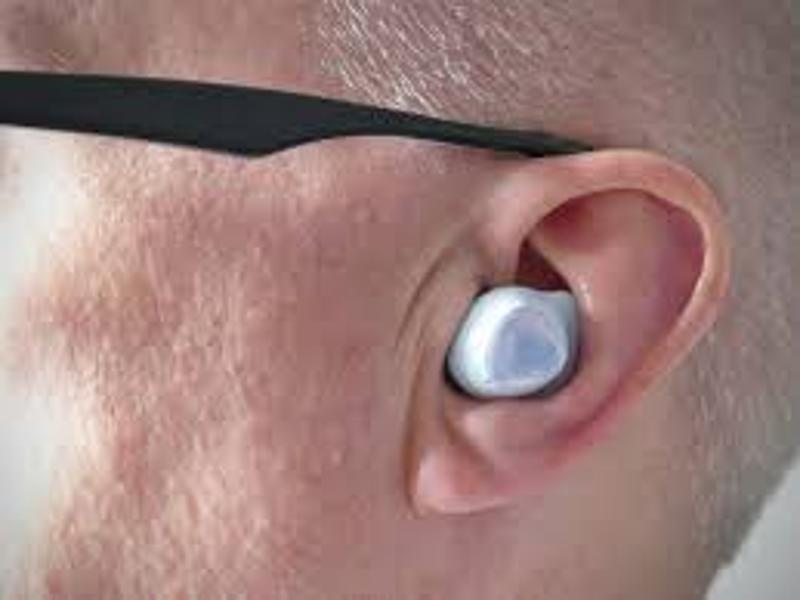headphone: (443, 285, 584, 403)
